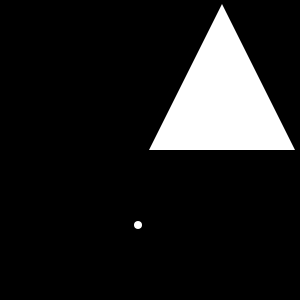rectangle: (134, 221, 142, 229)
triangle: (149, 4, 295, 150)
